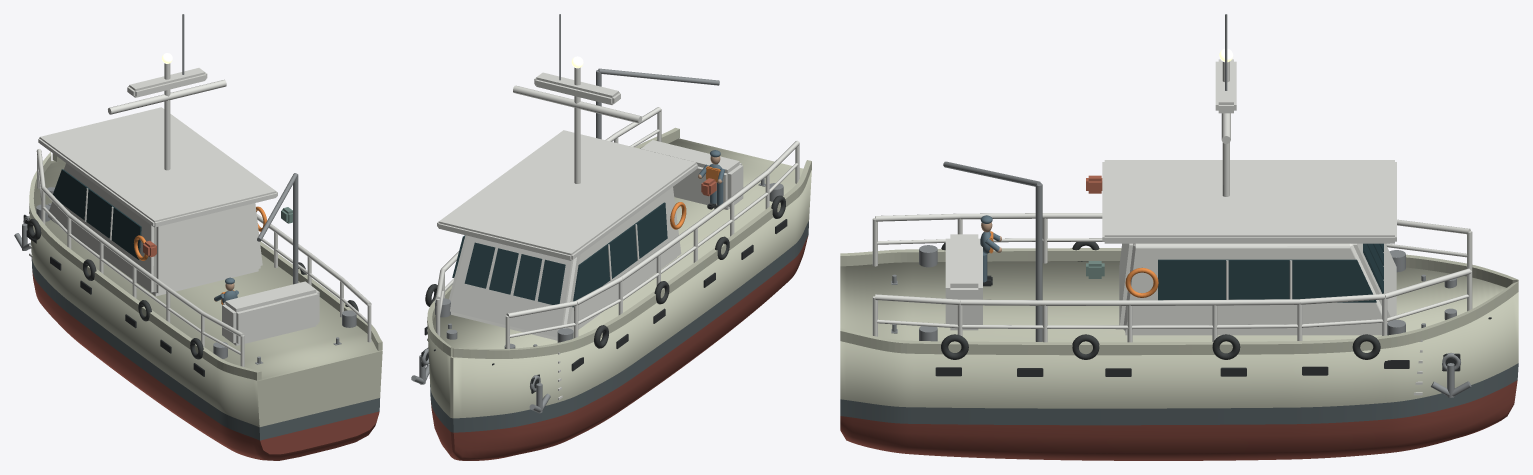
File: trawler.glb
3 renders of one model, left to right at view 1: azimuth 30°, elevation 25°; view 2: azimuth 150°, elevation 25°; view 3: azimuth 270°, elevation 25°, orthographic. The views are drawn at different scales.
Parts seen in each view (by area): view 1: white, hull, bottom, stripe, window, metal, rubber, black; view 2: white, hull, bottom, window, stripe, metal, rubber, black, uniform, orange; view 3: hull, white, bottom, stripe, window, metal, rubber, black.
Part boxes in pixels (x1,y1,x2,y2): white: (29, 63, 371, 366); hull: (29, 152, 382, 427); bottom: (32, 271, 379, 460); stripe: (31, 257, 379, 440); window: (53, 169, 141, 259); metal: (14, 14, 356, 364); rubber: (27, 219, 358, 359); black: (23, 214, 204, 376); white: (427, 67, 799, 399); hull: (427, 127, 811, 418); bottom: (431, 236, 808, 460); window: (452, 202, 667, 307); stripe: (430, 221, 808, 432); metal: (411, 14, 783, 413); rubber: (425, 195, 785, 348); black: (421, 203, 787, 393); uniform: (698, 150, 724, 205); orange: (670, 166, 720, 229); hull: (840, 248, 1518, 408); white: (872, 59, 1472, 395); bottom: (840, 380, 1517, 460); stripe: (840, 363, 1518, 425); window: (1158, 243, 1383, 302); metal: (891, 14, 1471, 397); rubber: (941, 242, 1380, 359); black: (935, 275, 1491, 376).
Bounding box in the file's own units: 5 × 10.05 × 14.5.
